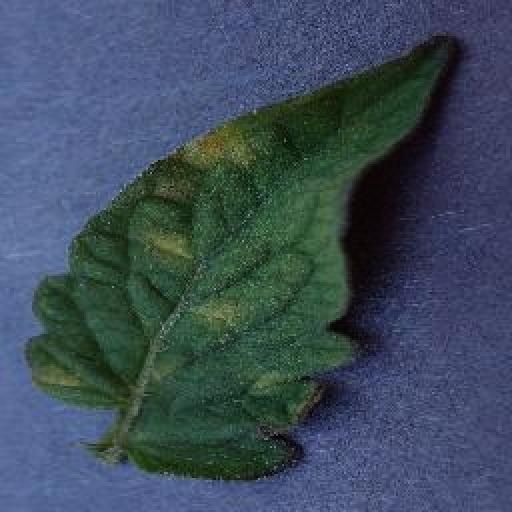disease_tomato: (22, 34, 452, 482)
